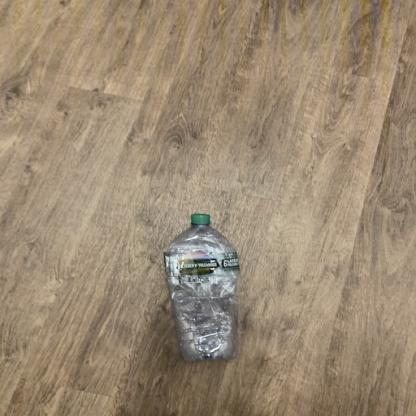trash: (164, 214, 245, 362)
